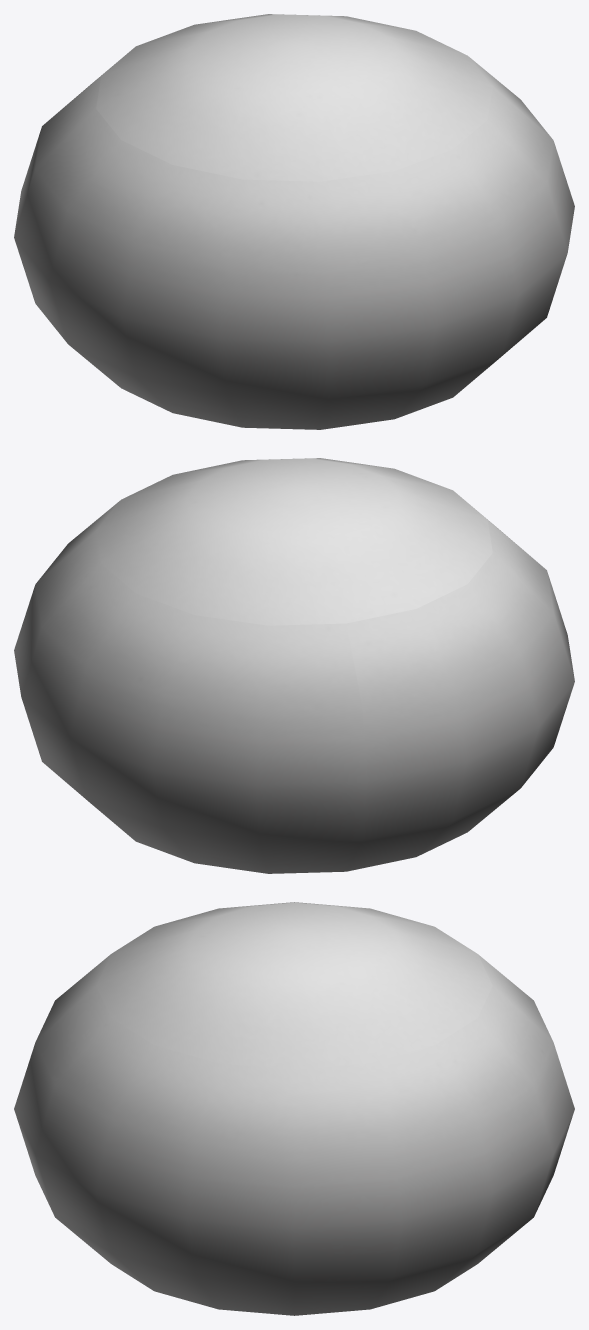
The model's file is Blop_SM.FBX.
The picture shows the model from 3 angles, top to bottom: view 1: azimuth 30°, elevation 25°; view 2: azimuth 150°, elevation 25°; view 3: azimuth 270°, elevation 25°; orthographic projection.
Visible parts, largest first — view 1: BlobBig; view 2: BlobBig; view 3: BlobBig.
Boxes of the visible parts, <box> form: BlobBig: <box>14,14,574,429</box>; BlobBig: <box>14,458,574,873</box>; BlobBig: <box>14,902,574,1315</box>.
Bounding box in the file's own units: 30 × 20.54 × 30.
